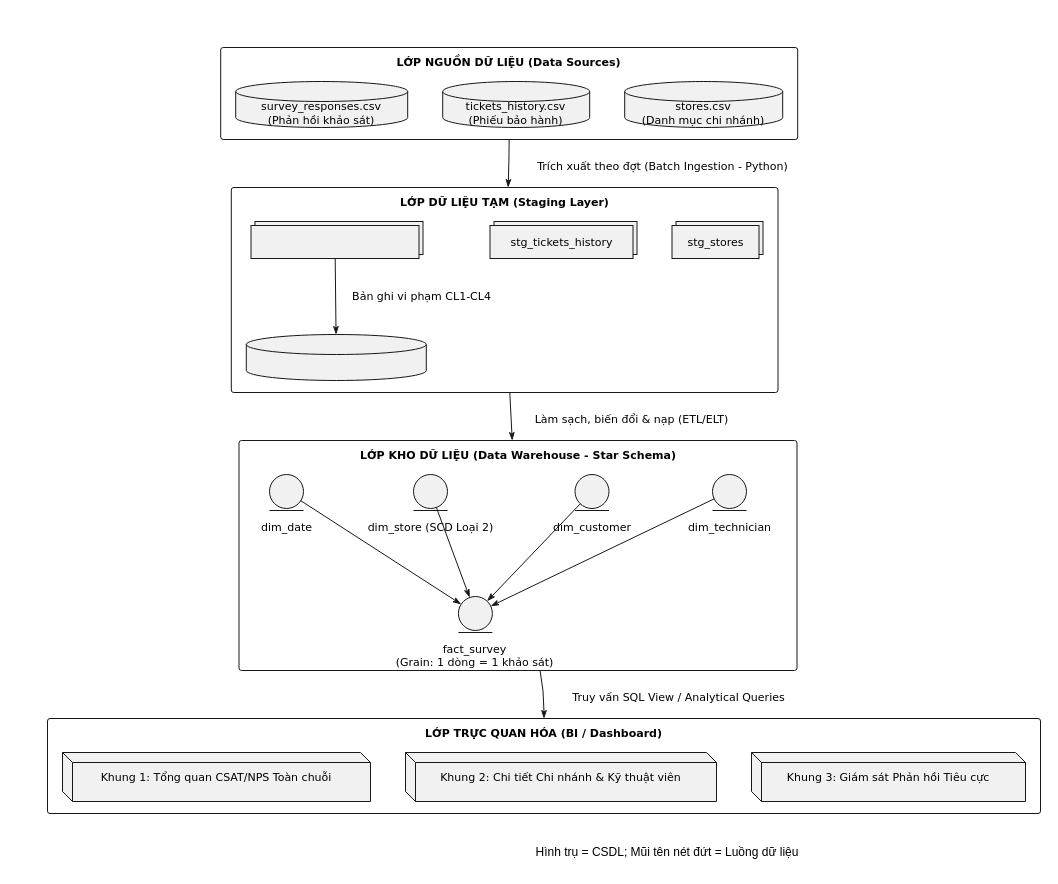
Some shapes in this 1058 by 884 pixel diagram are drawn without their labels. The shapes that lost their labels are listed below. From the top down, each one's centre as x and y in pixels, then its label:
At point (334, 241): "stg_survey_responses".
At point (335, 357): "reject_surveys (Bảng cách ly dữ liệu lỗi)".
